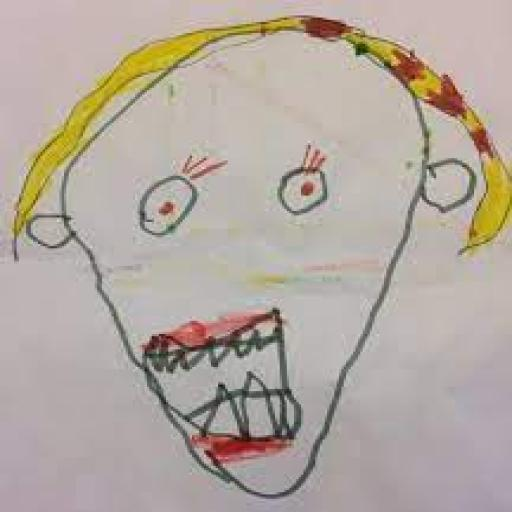person: (11, 7, 512, 499)
